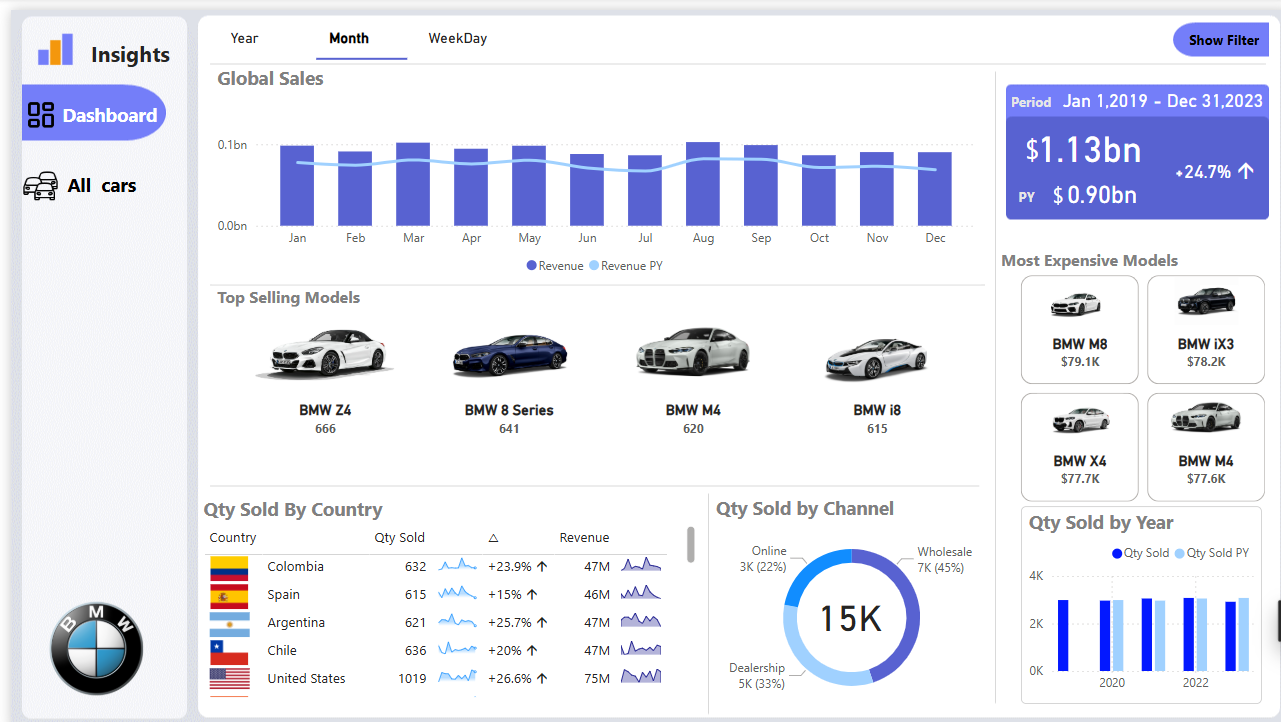

This screenshot's page, from the dashboard's own definition file:
{"tool":"powerbi","page":{"name":"BMW Dashboard","canvas":[1280,720],"ordinal":0},"visuals":[{"type":"advancedSlicerVisual","fields":{"Values":["PeriodSlicer.PeriodSlicer"]},"box":[201.1,0,300.8,55.2],"z":0},{"type":"textbox","box":[75.3,23.8,98.3,40],"z":0,"group":"g2"},{"type":"image","box":[10.3,13.8,68.3,48.3],"z":1000,"group":"g2"},{"type":"lineClusteredColumnComboChart","title":" Global Sales","fields":{"Category":["Calendar.Year"],"Y":["All Measures.Revenue"],"Y2":["All Measures.Revenue PY"]},"box":[201.1,55.2,768.9,218.9],"z":1000},{"type":"card","fields":{"Values":["All Measures.Revenue"]},"box":[1007.5,110,142.5,52.5],"z":2000,"group":"g3"},{"type":"card","fields":{"Values":["All Measures.Revenue PY"]},"box":[1030,156.2,122.5,55],"z":3000,"group":"g4"},{"type":"textbox","box":[1002,172.6,53.4,39.2],"z":4000,"group":"g4"},{"type":"card","fields":{"Values":["All Measures.Revenue Variance % Arrow"]},"box":[1135,135.4,133,55.1],"z":5000},{"type":"card","fields":{"Values":["All Measures.Selected Period"]},"box":[1037.6,64.1,229.6,55.2],"z":6000},{"type":"textbox","box":[994.9,77,60.5,44.5],"z":7000},{"type":"advancedSlicerVisual","title":"Top Selling Models","fields":{"Values":["dimModel.Model"]},"box":[201.3,274.5,780.2,202.5],"z":8000},{"type":"advancedSlicerVisual","title":"Most Expensive Models","fields":{"Values":["dimModel.Model"]},"box":[985.2,238.5,294.8,257.7],"z":9000},{"type":"clusteredColumnChart","title":"Qty Sold by Year","fields":{"Y":["All Measures.Qty Sold","All Measures.Qty Sold PY"],"Category":["Calendar.Year"]},"box":[1010.3,496.2,240.9,197.8],"z":10000},{"type":"donutChart","fields":{"Y":["All Measures.Qty Sold"],"Category":["dimChannel.Channel"]},"box":[699.9,485.4,281.6,220.5],"z":11000},{"type":"card","fields":{"Values":["All Measures.Qty Sold"]},"box":[783.8,575.3,110.3,59.9],"z":12000},{"type":"tableEx","title":"Qty Sold By Country","fields":{"Values":["dimCountry.Flag","dimCountry.Country","All Measures.Qty Sold","All Measures.Qty Sold Sparkline","All Measures.Qty Sold Variance % Arrow","All Measures.Revenue","All Measures.Revenue Sparkline"]},"box":[187,486.6,501.7,206.1],"z":13000},{"type":"textbox","box":[45.7,87.1,115.7,35.7],"z":14000},{"type":"image","box":[10,82.9,40,44.3],"z":15000},{"type":"image","box":[7.1,147.1,44.3,57.1],"z":16000},{"type":"textbox","box":[51.4,157.1,121.4,44.3],"z":17000},{"type":"actionButton","box":[6.2,153.8,172.5,45],"z":18000},{"type":"group","id":"g1","title":"Filter Pane","box":[905.7,12.5,353.3,471.7],"z":19000},{"type":"image","box":[34,584.1,103.2,108.9],"z":20000},{"type":"actionButton","box":[1167.5,12.5,91.4,34.3],"z":20001,"group":"g1"},{"type":"group","id":"g2","title":"Group 1","box":[10.3,13.8,163.3,50],"z":20001},{"type":"textbox","box":[1008.7,115,50,46.2],"z":20002,"group":"g3"},{"type":"textbox","box":[1036.2,165,42.5,38.8],"z":20003,"group":"g4"},{"type":"group","id":"g3","title":"Group 2","box":[1007.5,110,142.5,52.5],"z":20004},{"type":"group","id":"g4","title":"Group 3","box":[1002,156.2,150.5,55.5],"z":20005}]}

Visuals, with their boxes on the page's 1280x720 design canvas (x1, y1, x2, y2). These are canvas units, not pixel positions in the 1281x722 screenshot, which may show the page scaled, cropped or inside an application window:
advancedSlicerVisual - PeriodSlicer.PeriodSlicer: [201, 0, 502, 55]
textbox: [75, 24, 174, 64]
image: [10, 14, 79, 62]
" Global Sales" lineClusteredColumnComboChart: [201, 55, 970, 274]
card - All Measures.Revenue: [1008, 110, 1150, 162]
card - All Measures.Revenue PY: [1030, 156, 1152, 211]
textbox: [1002, 173, 1055, 212]
card - All Measures.Revenue Variance % Arrow: [1135, 135, 1268, 190]
card - All Measures.Selected Period: [1038, 64, 1267, 119]
textbox: [995, 77, 1055, 122]
"Top Selling Models" advancedSlicerVisual: [201, 274, 982, 477]
"Most Expensive Models" advancedSlicerVisual: [985, 238, 1280, 496]
"Qty Sold by Year" clusteredColumnChart: [1010, 496, 1251, 694]
donutChart - All Measures.Qty Sold x dimChannel.Channel: [700, 485, 982, 706]
card - All Measures.Qty Sold: [784, 575, 894, 635]
"Qty Sold By Country" tableEx: [187, 487, 689, 693]
textbox: [46, 87, 161, 123]
image: [10, 83, 50, 127]
image: [7, 147, 51, 204]
textbox: [51, 157, 173, 201]
actionButton: [6, 154, 179, 199]
"Filter Pane" group: [906, 12, 1259, 484]
image: [34, 584, 137, 693]
actionButton: [1168, 12, 1259, 47]
"Group 1" group: [10, 14, 174, 64]
textbox: [1009, 115, 1059, 161]
textbox: [1036, 165, 1079, 204]
"Group 2" group: [1008, 110, 1150, 162]
"Group 3" group: [1002, 156, 1152, 212]
